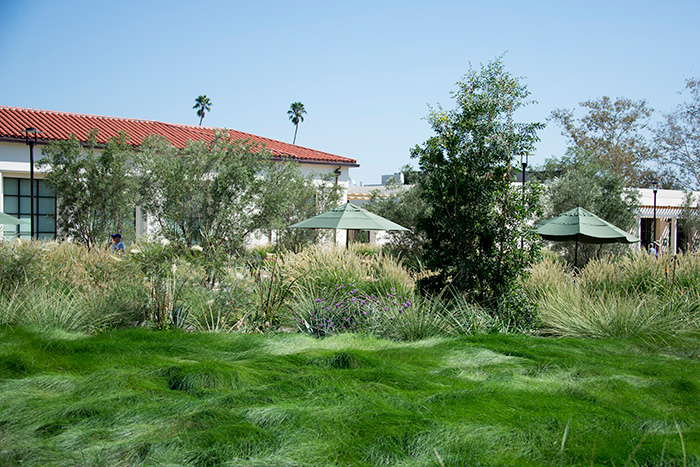grass: (7, 327, 700, 467)
